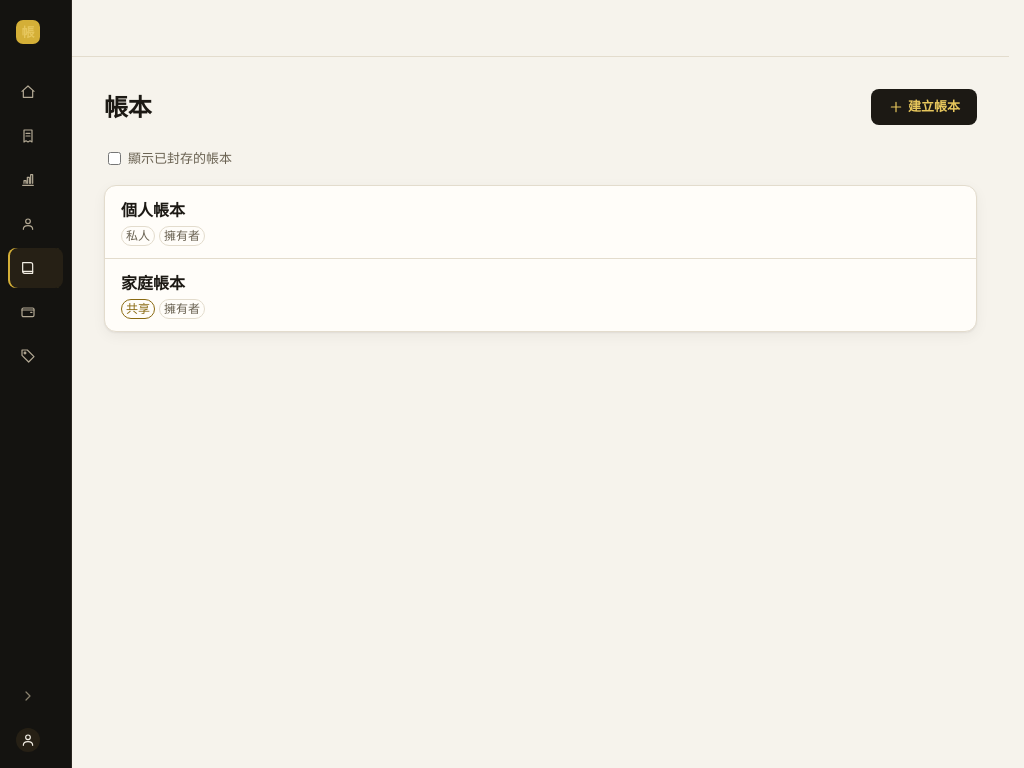
Scenario: Ledgers page header actions › closes the right panel and hands focus back on Escape
Click the button "建立帳本": (924,107) left=871, top=89, right=977, bottom=125
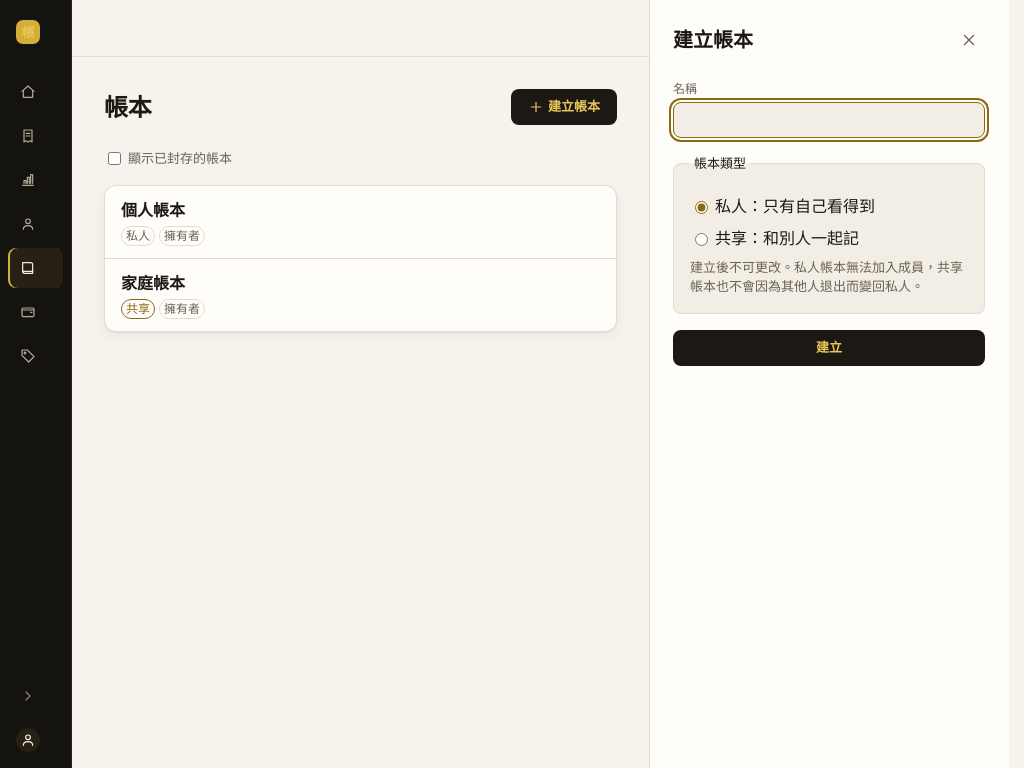
Result: the dialog "建立帳本" is shown at left=673, top=24, right=985, bottom=366
Press Escape
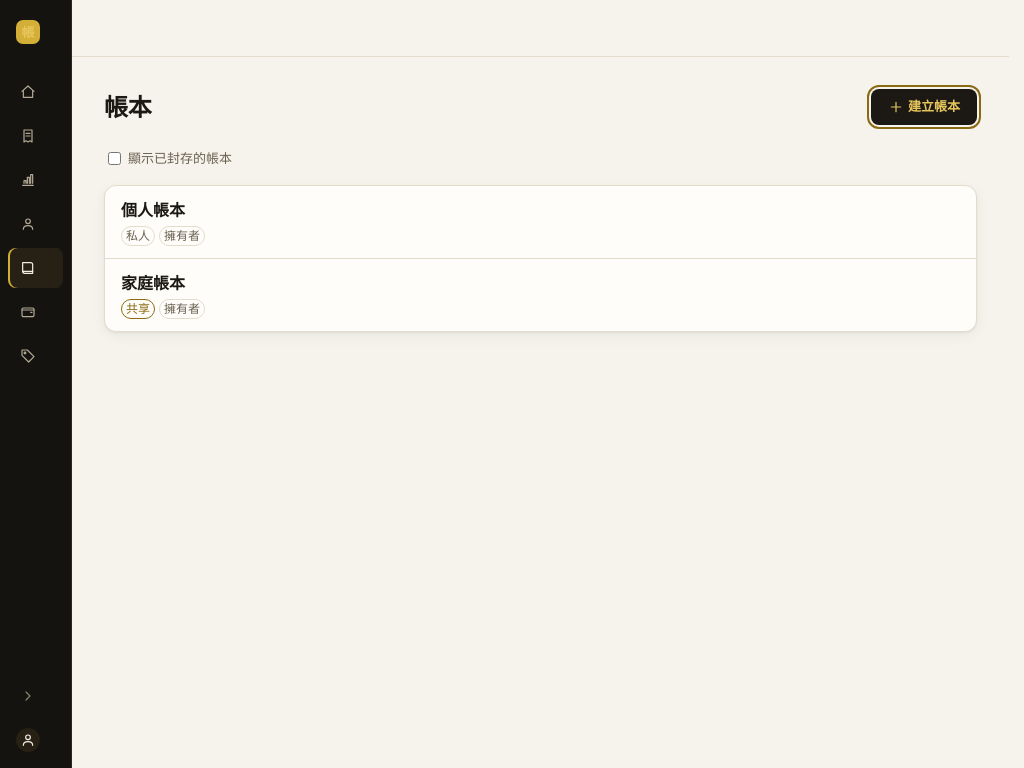
Result: the button "建立帳本" is collapsed at left=871, top=89, right=977, bottom=125
